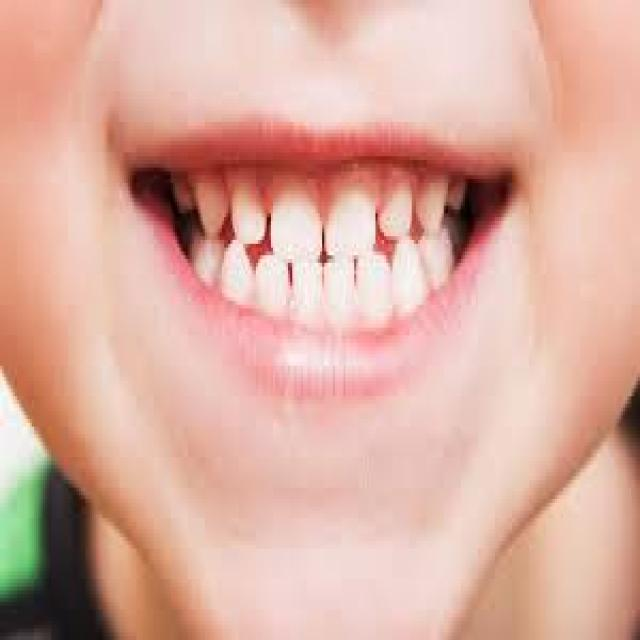tooth: (330, 179, 376, 251), (278, 190, 324, 256), (282, 252, 316, 336), (234, 176, 268, 252), (390, 244, 429, 308), (320, 251, 352, 324), (360, 251, 390, 324), (256, 259, 286, 324), (194, 179, 228, 236), (377, 191, 414, 236), (418, 236, 450, 286), (224, 248, 250, 304), (194, 236, 222, 278), (424, 179, 446, 229), (173, 179, 190, 213), (448, 179, 463, 210)
